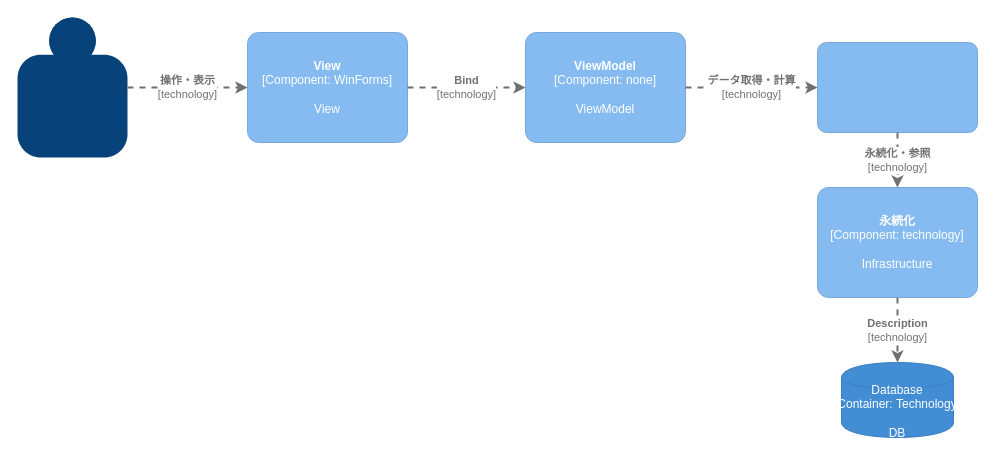
Image size: 995x457. Some labels were removed from this diagram. The shapes that lost their labels are listed below. From the top down, each one's box as (x1, y1, x2, y2) in pixels, then its label:
(17, 17, 127, 157): name [Person] User
(816, 42, 978, 132): Service [Component: none] Service
